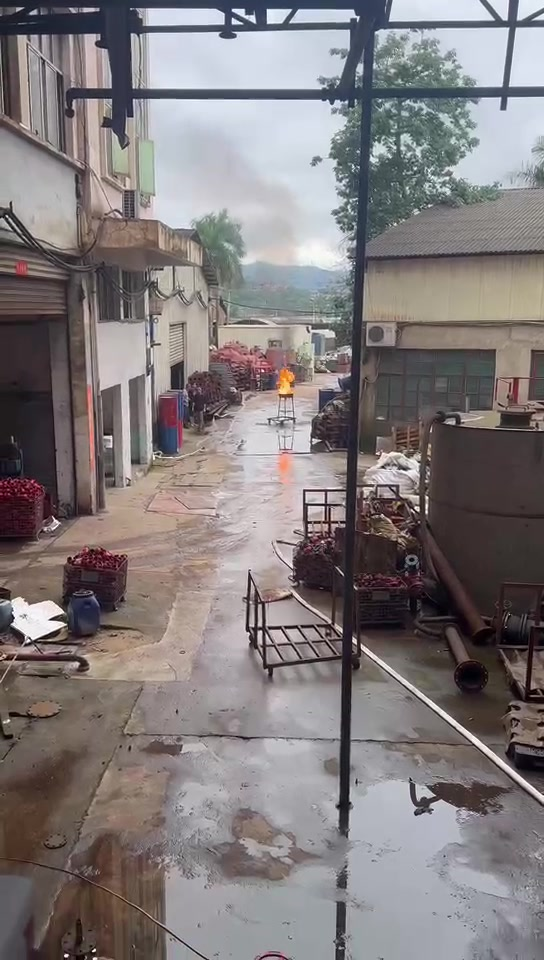fire: (276, 367, 294, 394)
